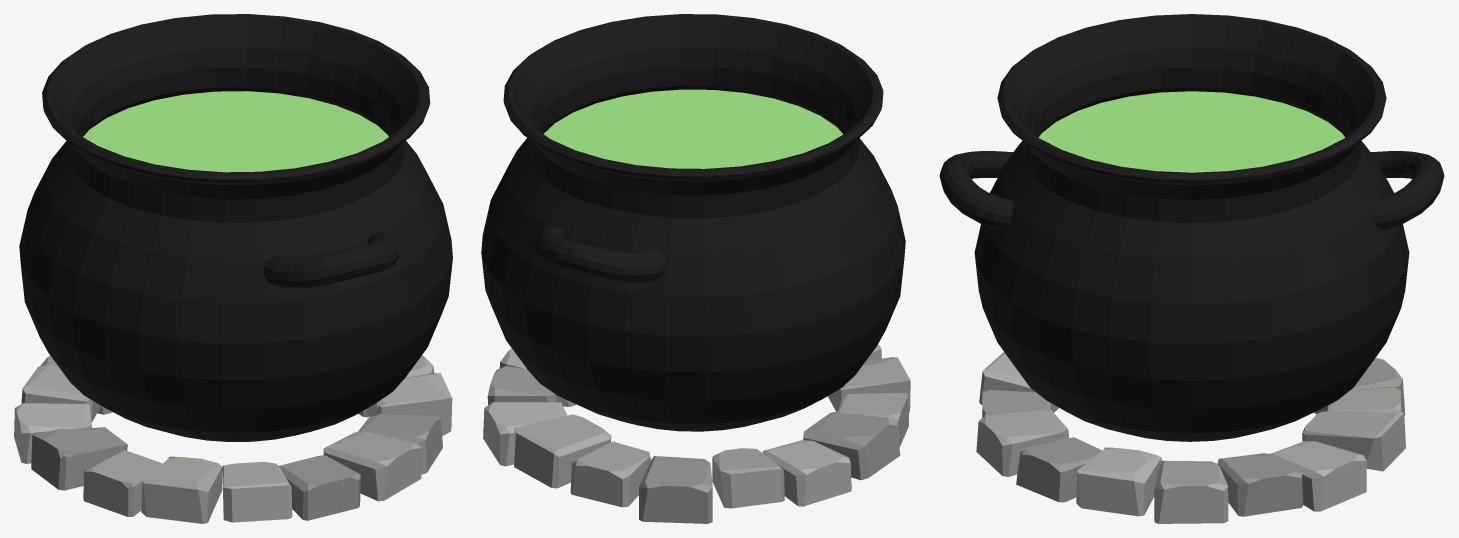
The model's file is BPW_Couldron.fbx.
The picture shows the model from 3 angles, left to right: view 1: azimuth 30°, elevation 25°; view 2: azimuth 150°, elevation 25°; view 3: azimuth 270°, elevation 25°; orthographic projection. The views are drawn at different scales.
Parts seen in each view (by area): view 1: Torus, Cube.003, Sphere; view 2: Torus, Cube.003, Sphere; view 3: Torus, Cube.003, Sphere.
Boxes of the visible parts, bbox=[...] form: Torus: bbox=[19, 14, 452, 441]; Cube.003: bbox=[14, 355, 452, 523]; Sphere: bbox=[83, 91, 388, 172]; Torus: bbox=[481, 14, 905, 431]; Cube.003: bbox=[483, 345, 910, 523]; Sphere: bbox=[544, 89, 843, 168]; Torus: bbox=[939, 14, 1444, 441]; Cube.003: bbox=[976, 352, 1405, 523]; Sphere: bbox=[1038, 91, 1345, 172].
Bounding box in the file's own units: 447 × 388 × 510.
